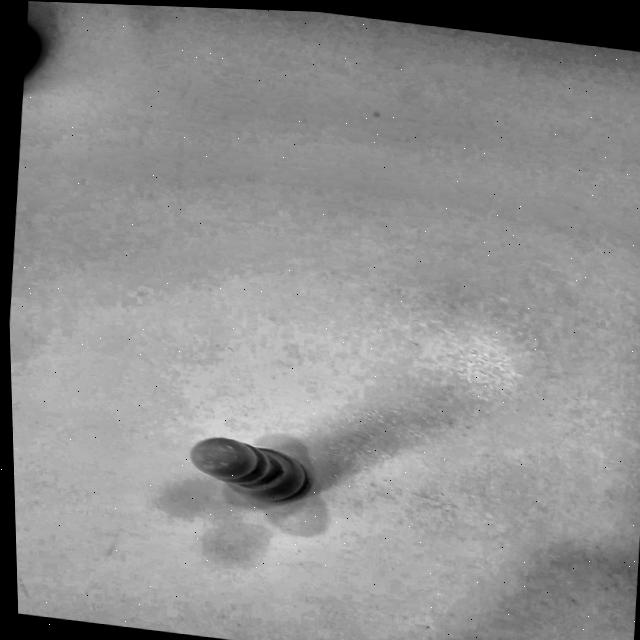white-pawn: (172, 429, 322, 518)
